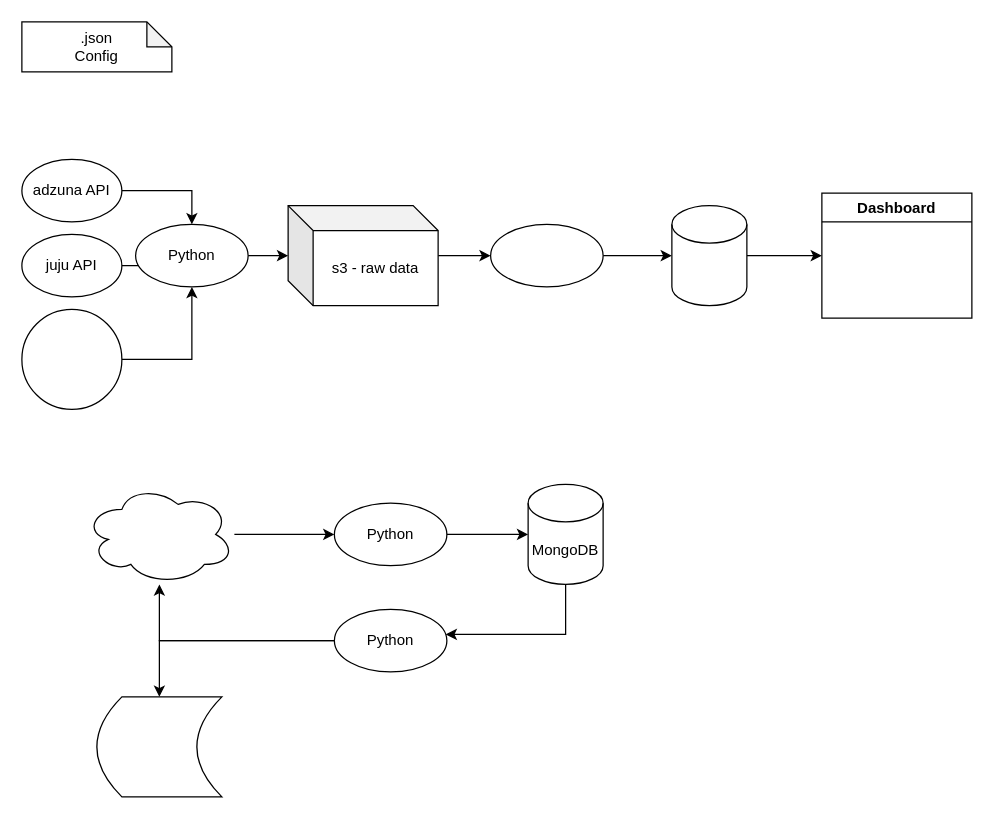
This 994x819 diagram has some shape labels left out. The centre of each missing label's shape, as x and y in pixels:
"Email" belongs at point (159, 746).
"Python/ pySpark" belongs at point (546, 255).
"Redshift" belongs at point (709, 255).
"Telegram" belongs at point (158, 533).
"USAJOBS API" belongs at point (71, 358).
